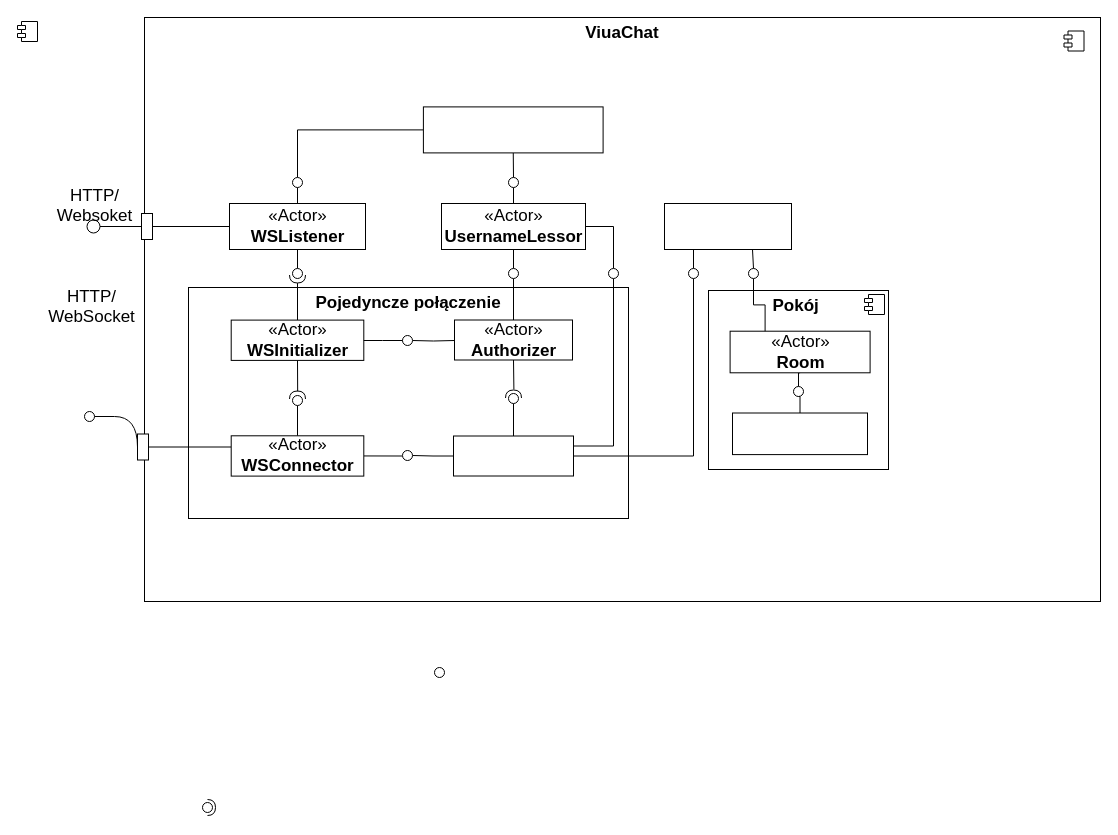
Image size: 1118x835. Some labels were removed from this diagram. The shapes that lost their labels are listed below. From the top down, each one's centre as x and y in pixels, then its label:
At (512,129): "«Actor» Architect".
At (728,226): "«Actor» Landlord".
At (800,433): "«Actor» MessageBuffer".
At (513,455): "«Actor» UserSession".
